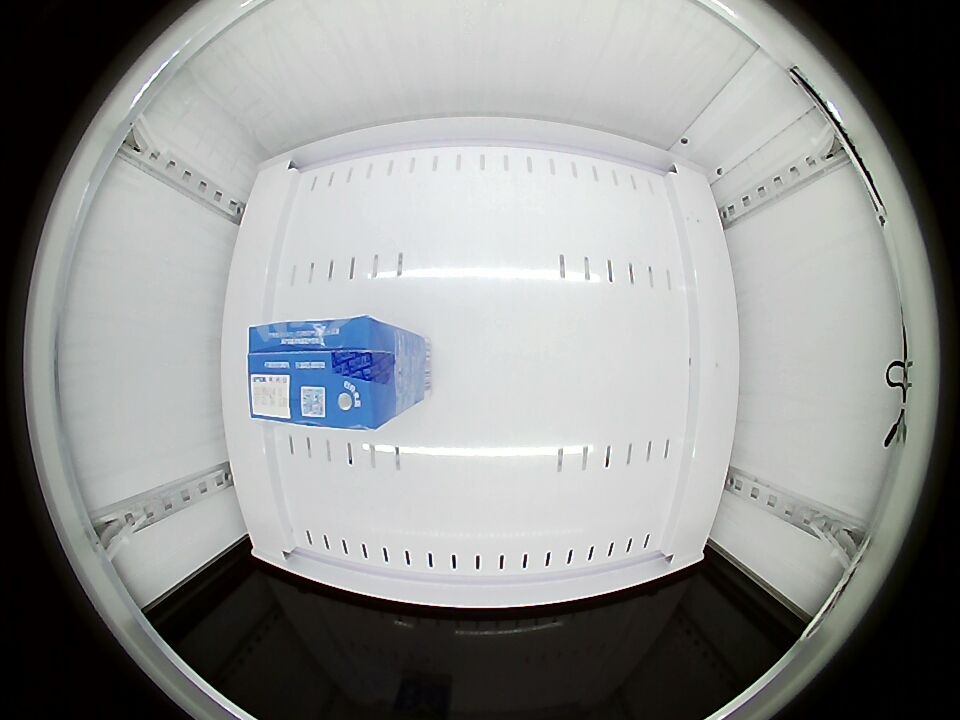weitanai: (246, 316, 404, 430)
